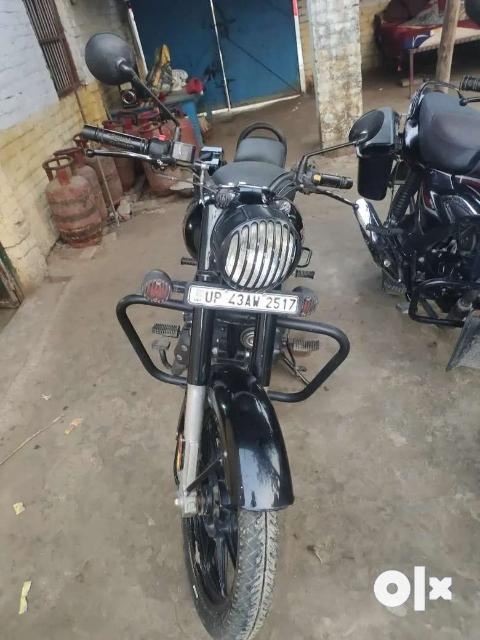Indian_Number_Plate: (188, 285, 301, 315)
